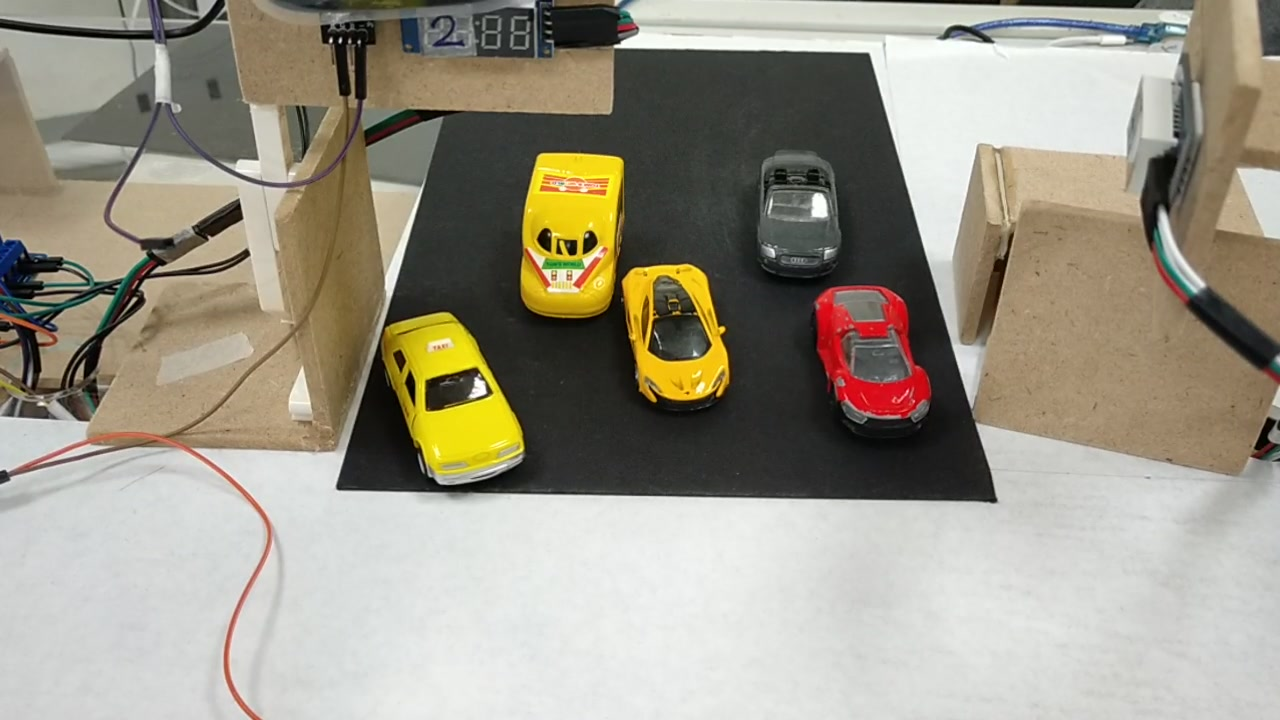car: (372, 316, 521, 489), (807, 290, 930, 428), (623, 266, 724, 405), (755, 155, 842, 277)
